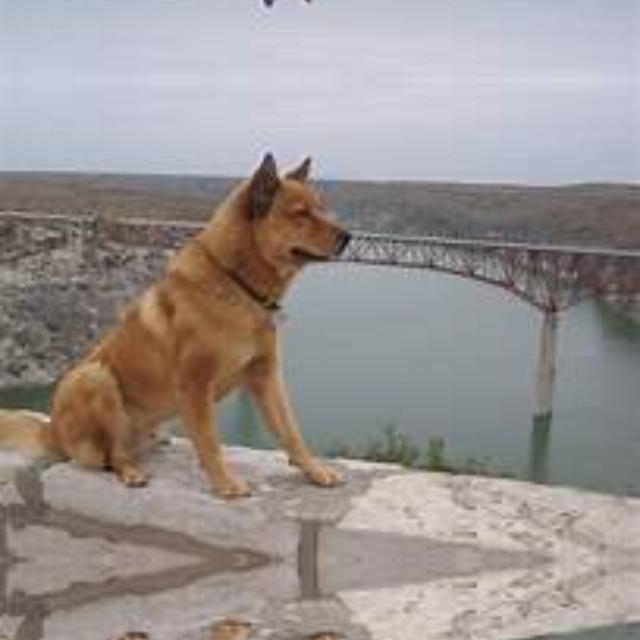dog: (63, 159, 369, 496), (63, 623, 369, 640)
